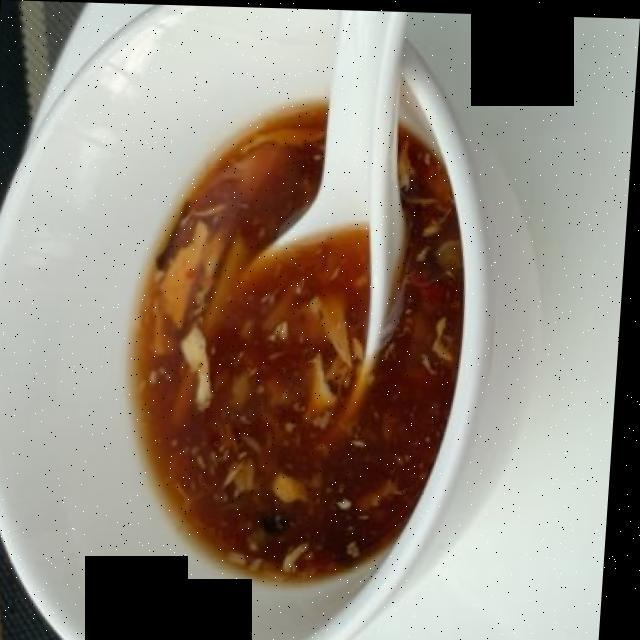bouillon: (136, 103, 456, 592)
